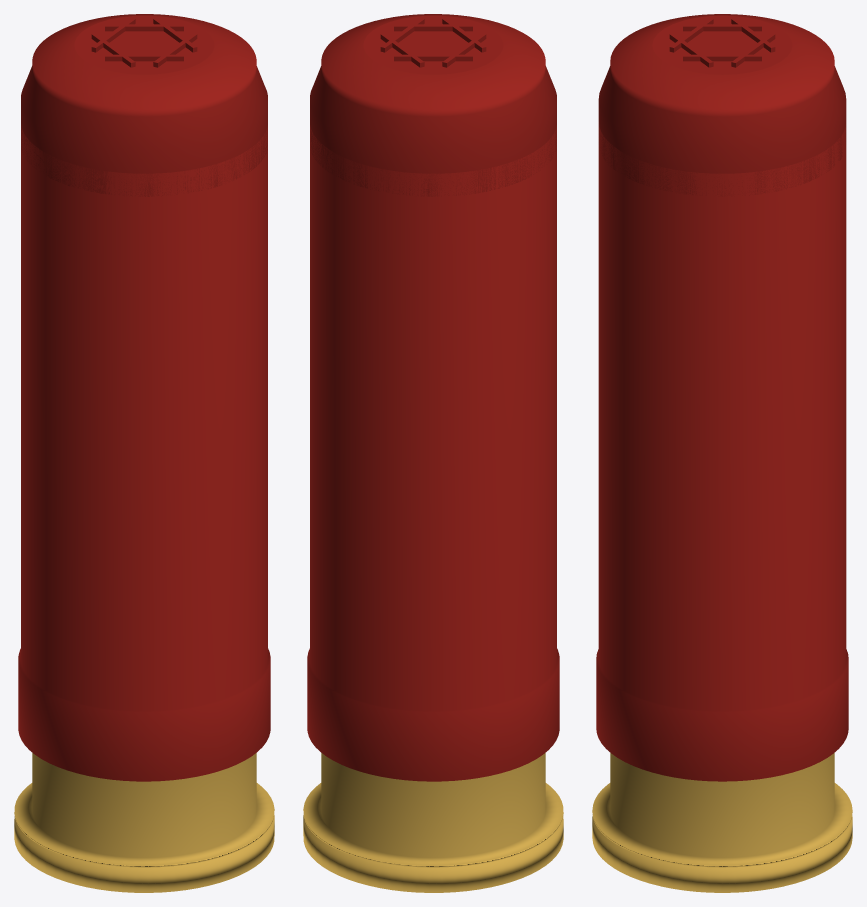
The model's file is cartouche-calibre-12.glb.
3 views of the same model, side by side, from view 1: azimuth 30°, elevation 25°; view 2: azimuth 150°, elevation 25°; view 3: azimuth 270°, elevation 25° (orthographic).
Visible parts, largest first — view 1: etui, sertissage, culot_laiton, sertissage_dessus, pli_2, pli_5; view 2: etui, sertissage, culot_laiton, sertissage_dessus, pli_1, pli_4; view 3: etui, sertissage, culot_laiton, sertissage_dessus, pli_0, pli_3.
Boxes of the visible parts, x1,y1,x2,y2 form: etui: (18, 125, 270, 781); sertissage: (21, 14, 267, 196); culot_laiton: (14, 753, 274, 892); sertissage_dessus: (74, 15, 214, 74); pli_2: (105, 54, 183, 61); pli_5: (105, 24, 183, 31); etui: (307, 125, 559, 781); sertissage: (310, 14, 556, 196); culot_laiton: (303, 753, 563, 892); sertissage_dessus: (363, 15, 503, 74); pli_1: (394, 24, 472, 31); pli_4: (394, 54, 472, 61); etui: (596, 122, 848, 781); sertissage: (598, 14, 846, 196); culot_laiton: (592, 753, 852, 892); sertissage_dessus: (652, 15, 792, 74); pli_0: (683, 54, 761, 61); pli_3: (683, 24, 761, 31).
Bounding box in the file's own units: 0.0204 × 0.0692 × 0.0204.
